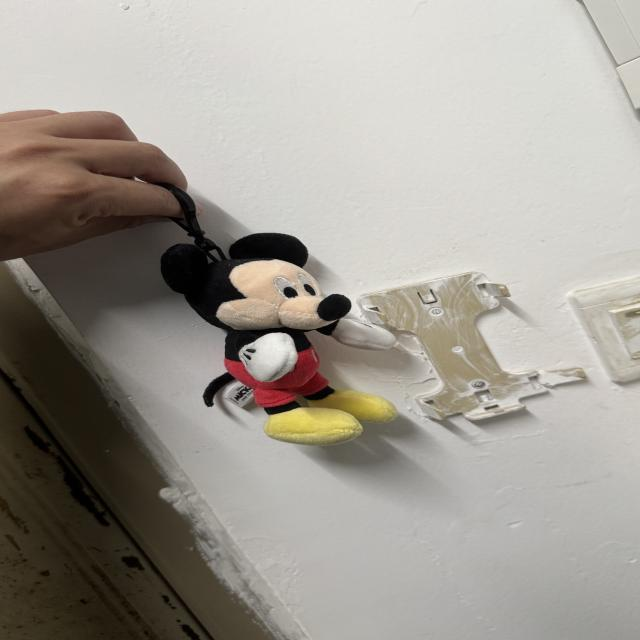mickey: (162, 234, 396, 445)
